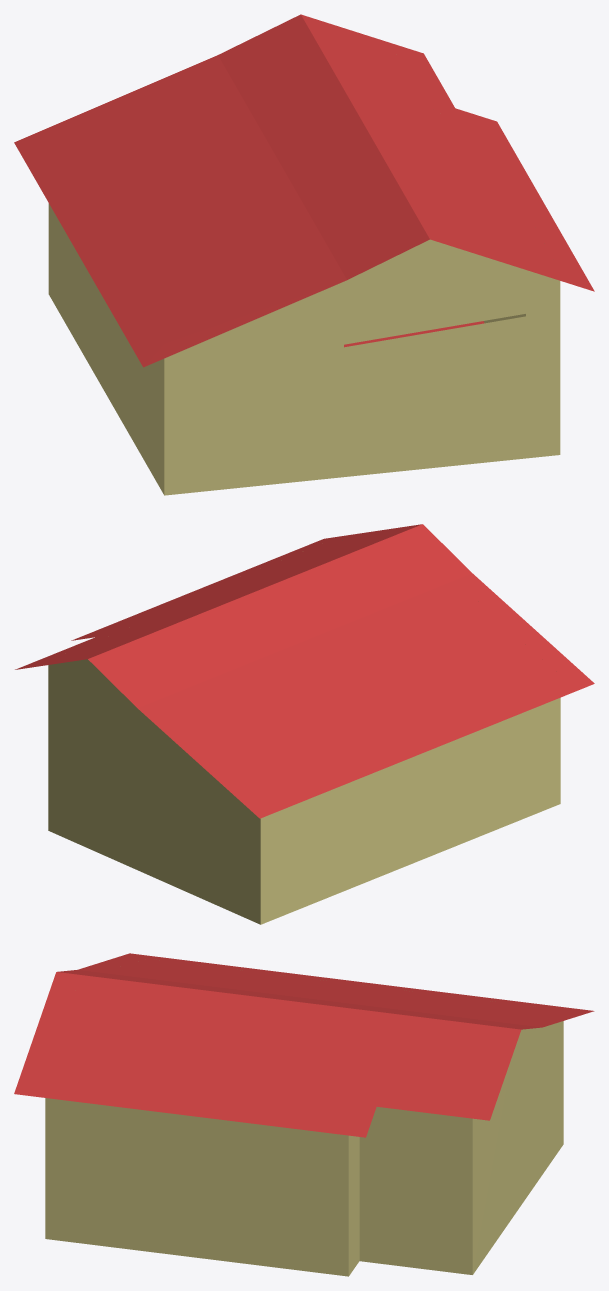
The picture shows the model from 3 angles, top to bottom: view 1: azimuth 30°, elevation 25°; view 2: azimuth 150°, elevation 25°; view 3: azimuth 270°, elevation 25°; orthographic projection. The views are drawn at different scales.
Size of the model in its own units: 19.68 by 22.97 by 9.31.
